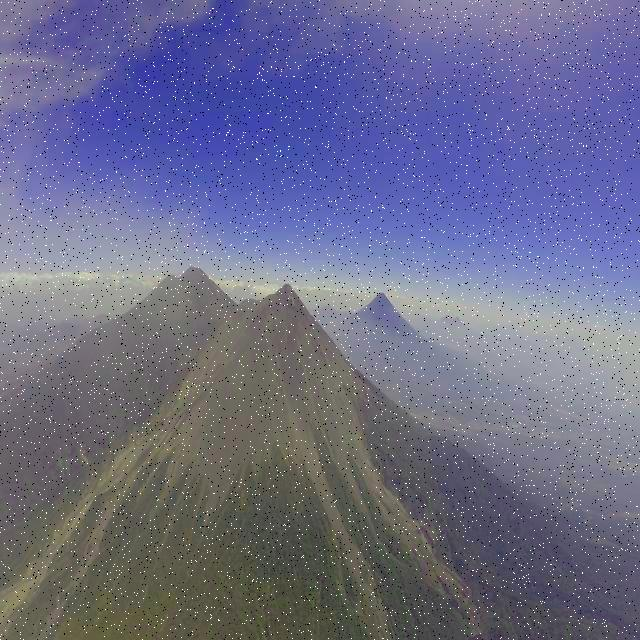Summit: (261, 282, 307, 310)
